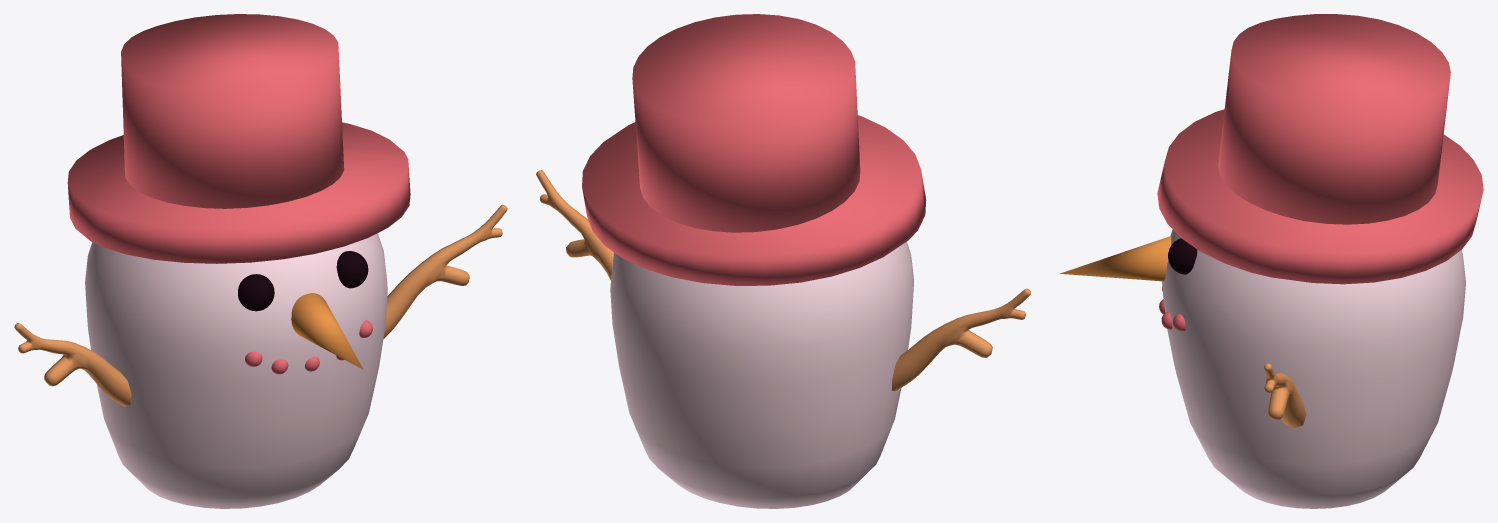
File: SnowmanHappyOne.fbx
The picture shows the model from 3 angles, left to right: view 1: azimuth 30°, elevation 25°; view 2: azimuth 150°, elevation 25°; view 3: azimuth 270°, elevation 25°; orthographic projection.
Visible parts, largest first — view 1: Sphere.002, Hat Top, Hat Rim, Vert.001, Cone, Left eye, Right eye; view 2: Sphere.002, Hat Top, Hat Rim, Vert.001; view 3: Sphere.002, Hat Top, Hat Rim, Cone, Vert.001, Right eye.
Part boxes in pixels (<box>): Sphere.002: <box>85,233,387,508</box>; Hat Top: <box>121,14,344,208</box>; Hat Rim: <box>67,122,410,263</box>; Vert.001: <box>14,204,507,406</box>; Cone: <box>291,293,363,369</box>; Left eye: <box>238,274,274,311</box>; Right eye: <box>336,251,368,288</box>; Sphere.002: <box>610,241,913,508</box>; Hat Top: <box>632,14,860,232</box>; Hat Rim: <box>582,115,926,285</box>; Vert.001: <box>536,170,1030,391</box>; Sphere.002: <box>1162,229,1465,508</box>; Hat Top: <box>1218,14,1450,224</box>; Hat Rim: <box>1157,109,1483,284</box>; Cone: <box>1060,236,1171,281</box>; Vert.001: <box>1264,363,1306,428</box>; Right eye: <box>1168,238,1197,274</box>.
Bounding box in the file's own units: 263 × 220 × 196.
